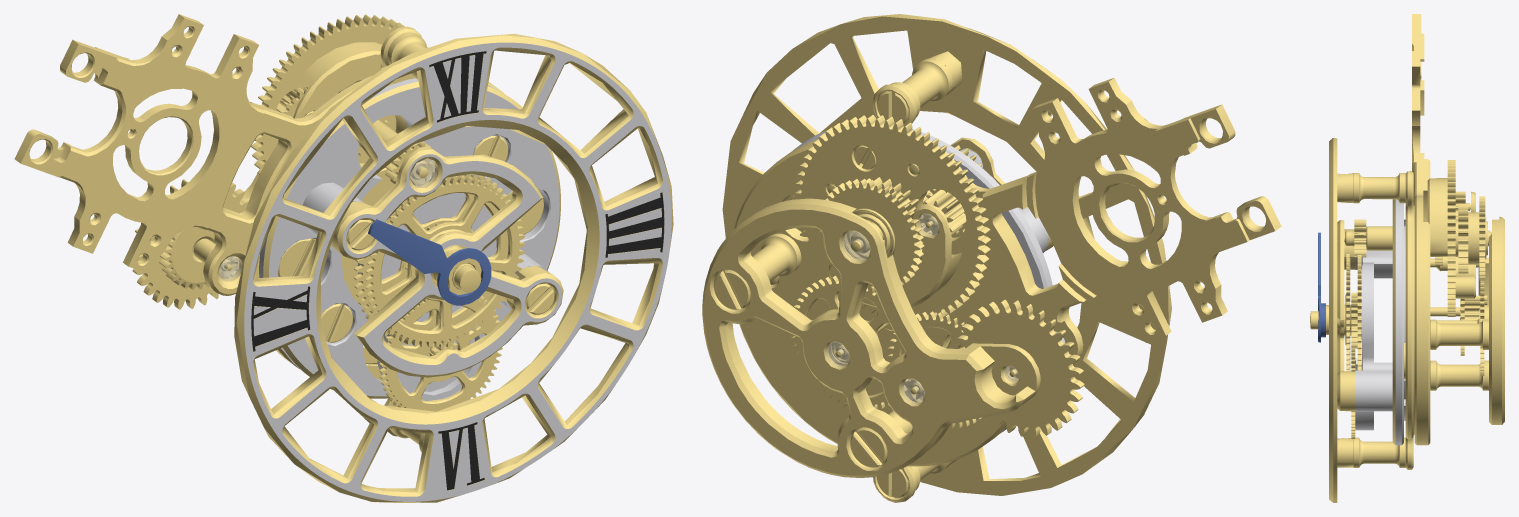
Rendered from case_body_yellow_gold.glb.
3 renders of one model, left to right at view 1: azimuth 30°, elevation 25°; view 2: azimuth 150°, elevation 25°; view 3: azimuth 270°, elevation 25°, orthographic. The views are drawn at different scales.
Visible parts, largest first — view 1: Importée1.067, 08041.EVEREST.F.stp.031, 08041.EVEREST.F.stp.025, 08041.EVEREST.F.stp.021, Importée1.068, 08041.EVEREST.F.stp.064, 08041.EVEREST.F.stp.075, Enlèv. mat.-Extru.2, 08041.EVEREST.F.stp.040, 08041.EVEREST.F.stp.024, 08041.EVEREST.F.stp.055, 08041.EVEREST.F.stp.061 (+4 smaller); view 2: 08041.EVEREST.F.stp.031, 08041.EVEREST.F.stp.052, Importée1.067, 08041.EVEREST.F.stp.064, 08041.EVEREST.F.stp.061, 08041.EVEREST.F.stp.048, 08041.EVEREST.F.stp.047, 08041.EVEREST.F.stp.025, 08041.EVEREST.F.stp.051, 08041.EVEREST.F.stp.015, 08041.EVEREST.F.stp.030, 08041.EVEREST.F.stp.065 (+8 smaller); view 3: 08041.EVEREST.F.stp.025, 08041.EVEREST.F.stp.031, Importée1.067, 08041.EVEREST.F.stp.052, 08041.EVEREST.F.stp.029, 08041.EVEREST.F.stp.021, 08041.EVEREST.F.stp.040, 08041.EVEREST.F.stp.064, 08041.EVEREST.F.stp.065, 08041.EVEREST.F.stp.030, 08041.EVEREST.F.stp.058, 08041.EVEREST.F.stp.015 (+13 smaller).
Boxes of the visible parts, x1,y1,x2,y2 form: Importée1.067: (234,33,673,502); 08041.EVEREST.F.stp.031: (14,14,505,368); 08041.EVEREST.F.stp.025: (259,78,560,401); 08041.EVEREST.F.stp.021: (330,146,563,377); Importée1.068: (365,176,525,347); 08041.EVEREST.F.stp.064: (251,14,427,174); 08041.EVEREST.F.stp.075: (379,296,502,411); Enlèv. mat.-Extru.2: (368,219,491,305); 08041.EVEREST.F.stp.040: (293,42,385,118); 08041.EVEREST.F.stp.024: (354,171,518,344); 08041.EVEREST.F.stp.055: (159,226,234,289); 08041.EVEREST.F.stp.061: (132,179,248,309); 08041.EVEREST.F.stp.031: (734,78,1281,466); 08041.EVEREST.F.stp.052: (702,198,1040,477); Importée1.067: (722,14,1171,495); 08041.EVEREST.F.stp.064: (794,115,990,317); 08041.EVEREST.F.stp.061: (956,299,1084,437); 08041.EVEREST.F.stp.048: (818,178,924,290); 08041.EVEREST.F.stp.047: (828,204,961,307); 08041.EVEREST.F.stp.025: (794,129,1056,432); 08041.EVEREST.F.stp.051: (789,275,910,409); 08041.EVEREST.F.stp.015: (890,58,952,117); 08041.EVEREST.F.stp.030: (752,233,801,281); 08041.EVEREST.F.stp.065: (844,177,930,259); 08041.EVEREST.F.stp.025: (1355,199,1405,445); 08041.EVEREST.F.stp.031: (1412,14,1430,445); Importée1.067: (1329,138,1353,502); 08041.EVEREST.F.stp.052: (1478,216,1504,424); 08041.EVEREST.F.stp.029: (1405,171,1413,469); 08041.EVEREST.F.stp.021: (1337,220,1355,411); 08041.EVEREST.F.stp.040: (1427,178,1447,256); 08041.EVEREST.F.stp.064: (1447,160,1458,316); 08041.EVEREST.F.stp.065: (1458,203,1487,273); 08041.EVEREST.F.stp.030: (1430,319,1488,349); 08041.EVEREST.F.stp.058: (1430,360,1488,390); 08041.EVEREST.F.stp.015: (1353,173,1405,203).
Bounding box in the file's own units: 0.0249 × 0.0196 × 0.00968.
